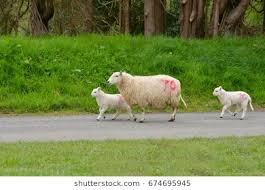sheep: (107, 70, 183, 120), (210, 84, 253, 120), (90, 86, 124, 117)
